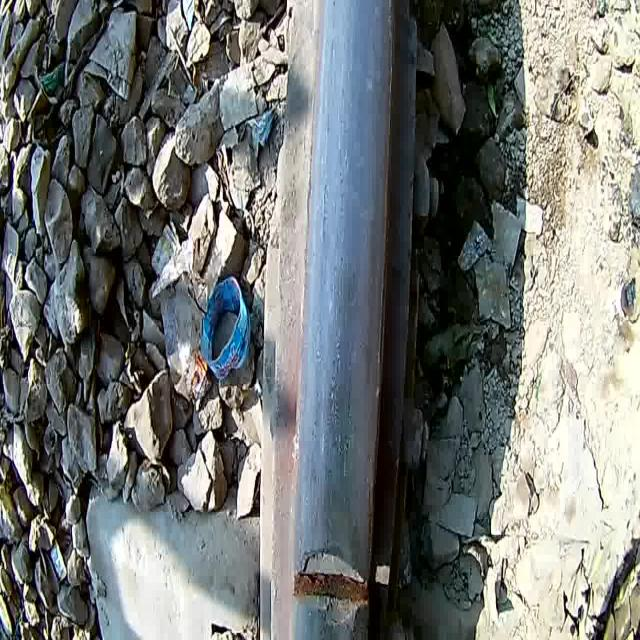Joint: (280, 533, 382, 635)
